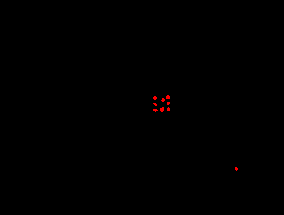Target: (160, 107, 164, 112), (166, 95, 170, 99), (153, 96, 157, 100), (161, 98, 165, 102), (153, 109, 158, 112), (153, 103, 157, 106), (167, 107, 170, 111), (235, 167, 238, 171), (167, 102, 170, 105)
